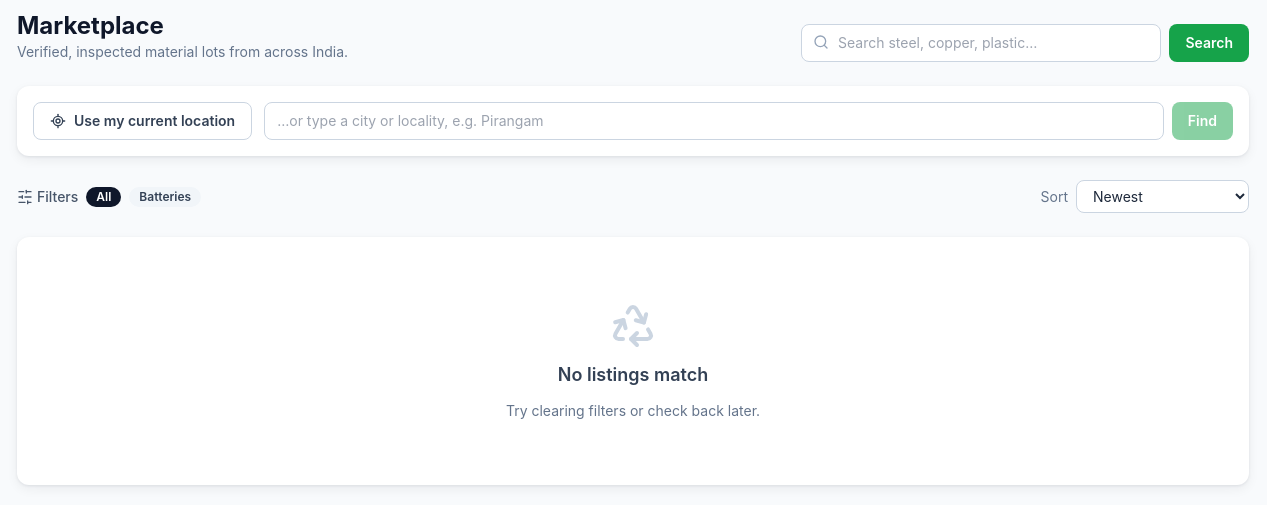
Test: Marketplace location search › falls back to a city filter when no geocoder is configured
Check: the button "Batteries" is shown, box [129,186,201,206]
Type "Chennai" into the field named "search by place" at (714, 121), box [264,102,1164,140]
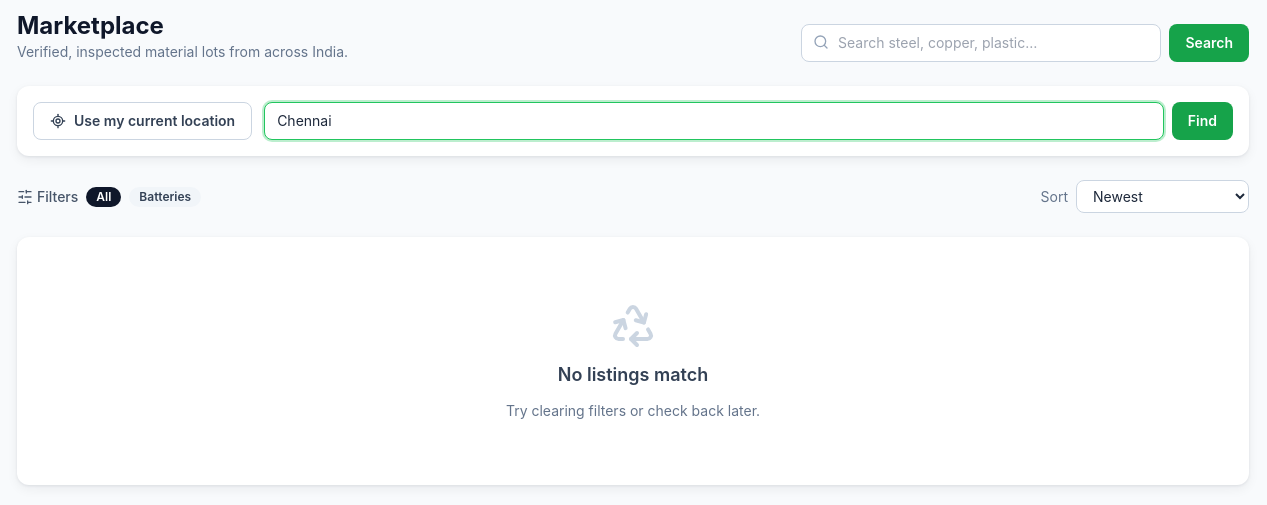
Click the button "Find" at (1202, 121), box [1172,102,1233,140]
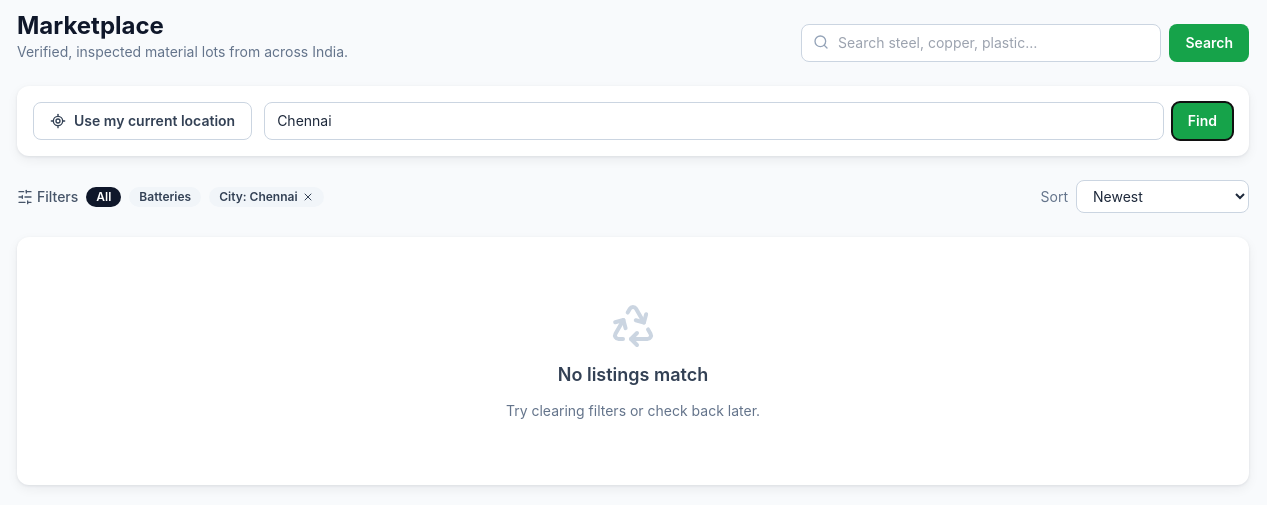
Check: the text "City: Chennai" is shown, box [209,186,324,206]
